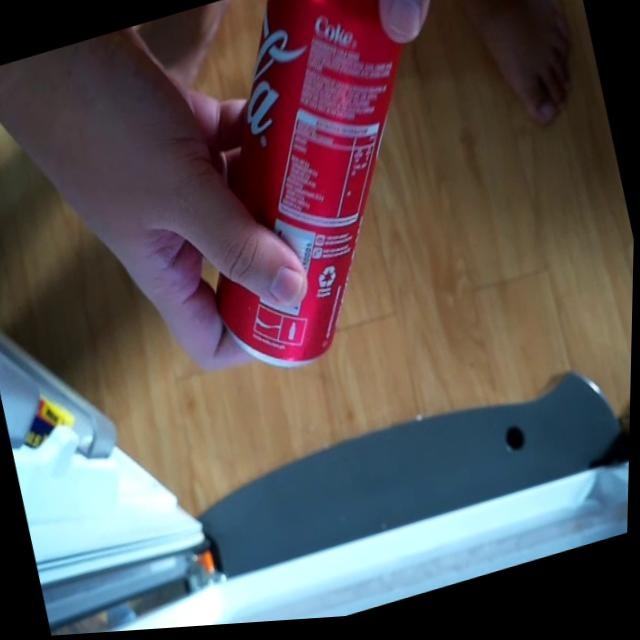coke: (144, 0, 497, 396)
